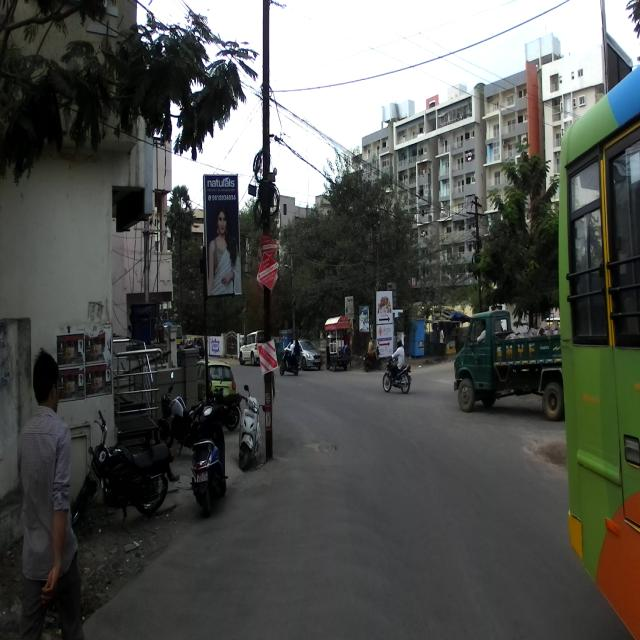electric pole ahead at: (249, 0, 281, 476)
motorcycle ahead at: (76, 415, 179, 535), (188, 392, 231, 514)
truck ahead at: (450, 301, 561, 418)
